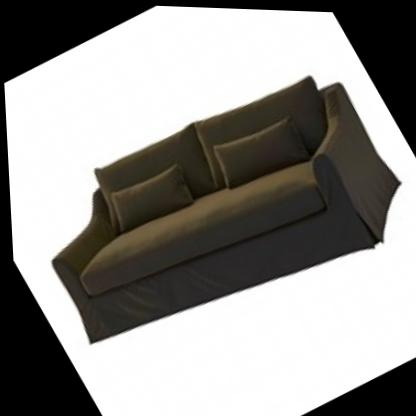Sofa: (1, 19, 416, 404)
